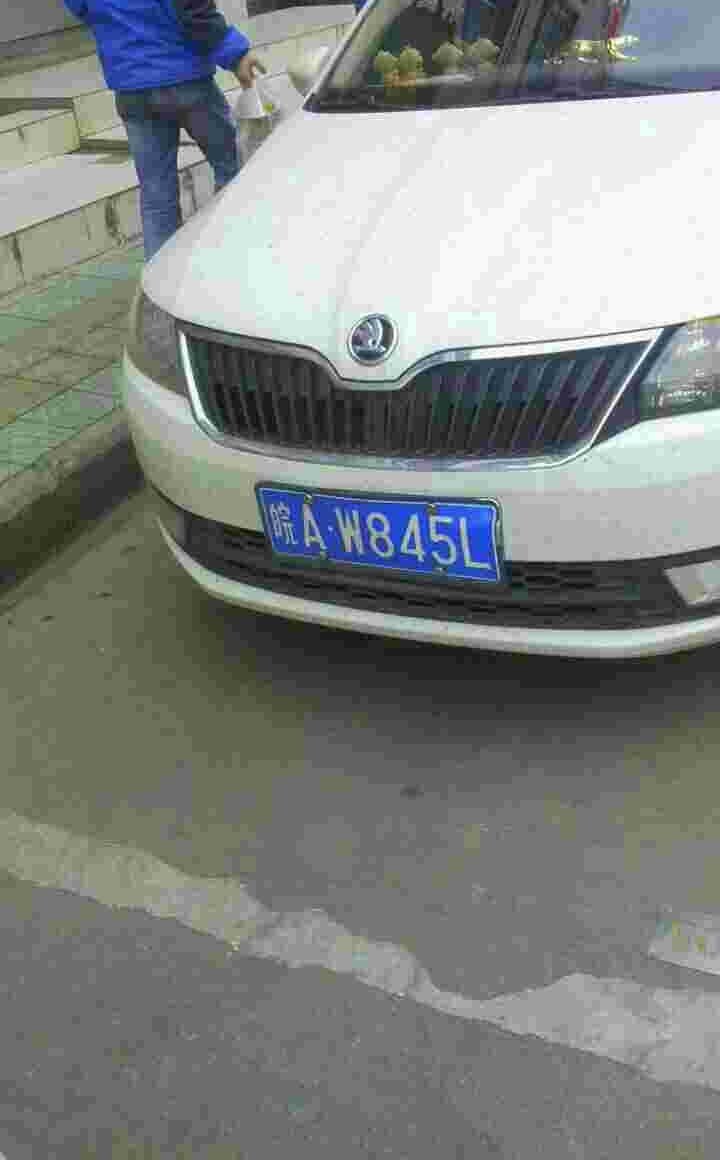license_plate: (265, 487, 494, 586)
